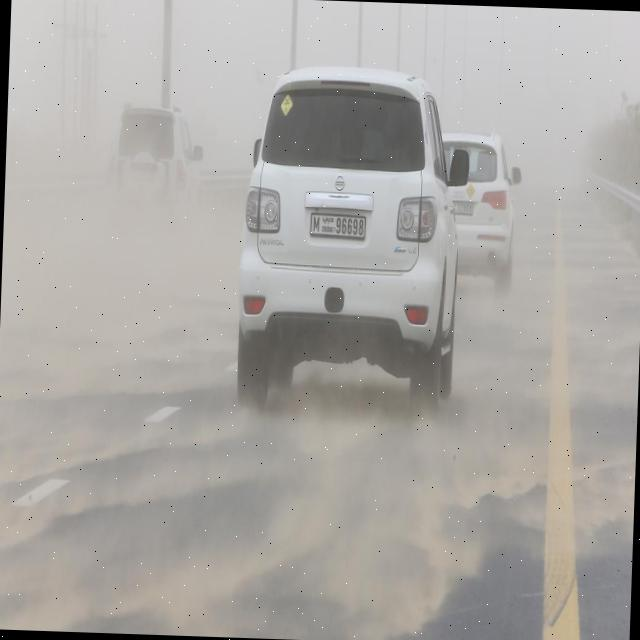car: (233, 60, 472, 414), (440, 128, 522, 287), (105, 99, 204, 229)
